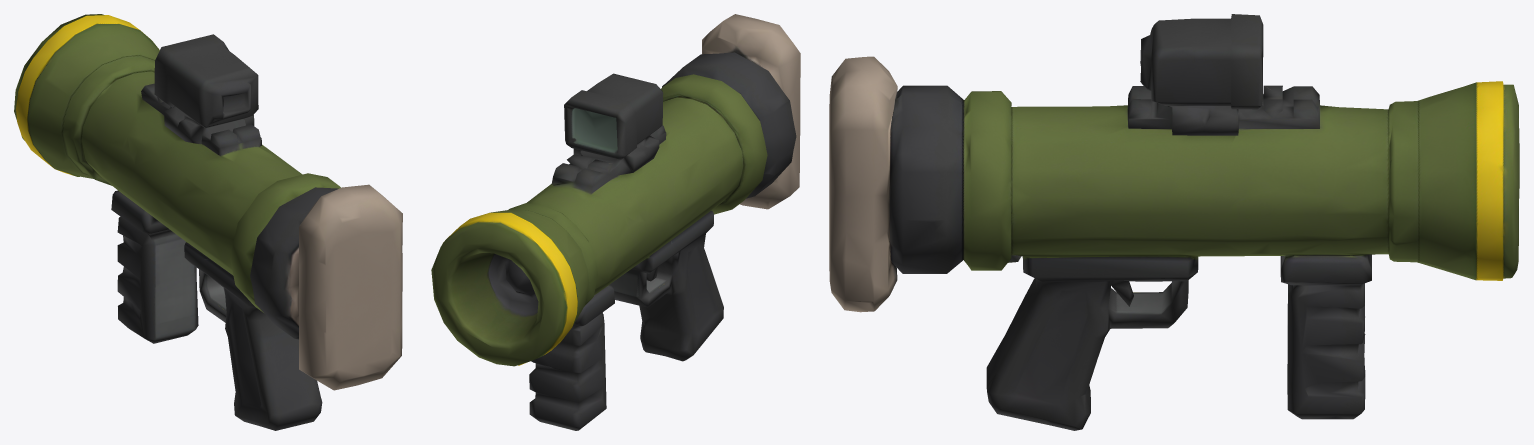
The model's file is thumper_tripo_raw.glb.
3 renders of one model, left to right at view 1: azimuth 30°, elevation 25°; view 2: azimuth 150°, elevation 25°; view 3: azimuth 270°, elevation 25°, orthographic. The views are drawn at different scales.
Parts seen in each view (by area): view 1: tripo_node_09a84993-fe08-4e2d-b74d-17948e1274e0; view 2: tripo_node_09a84993-fe08-4e2d-b74d-17948e1274e0; view 3: tripo_node_09a84993-fe08-4e2d-b74d-17948e1274e0.
Part boxes in pixels (x1,y1,x2,y2): tripo_node_09a84993-fe08-4e2d-b74d-17948e1274e0: [14, 14, 402, 430]; tripo_node_09a84993-fe08-4e2d-b74d-17948e1274e0: [431, 14, 800, 430]; tripo_node_09a84993-fe08-4e2d-b74d-17948e1274e0: [829, 14, 1519, 430].
Bounding box in the file's own units: 0.2877 × 0.624 × 1.
Materials: 1 (1 with a texture image).
